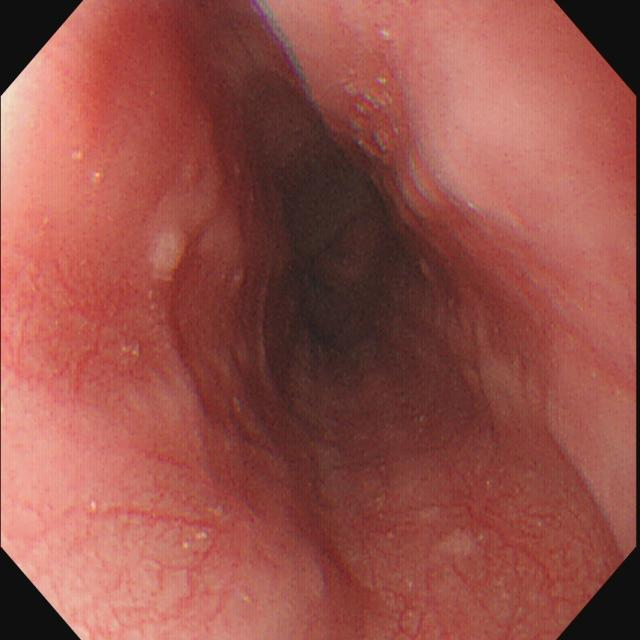A: (120, 452, 331, 621), (144, 88, 245, 294), (36, 263, 156, 401)
E: (255, 91, 394, 367)
